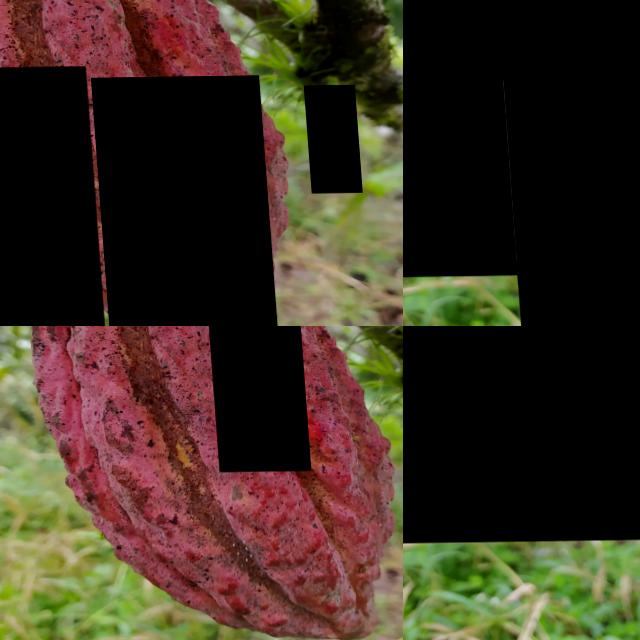Monilia: (403, 0, 527, 279), (0, 66, 104, 326), (204, 326, 305, 472)
Sana: (403, 326, 640, 543), (485, 0, 640, 326), (86, 76, 277, 326), (300, 87, 357, 195)
